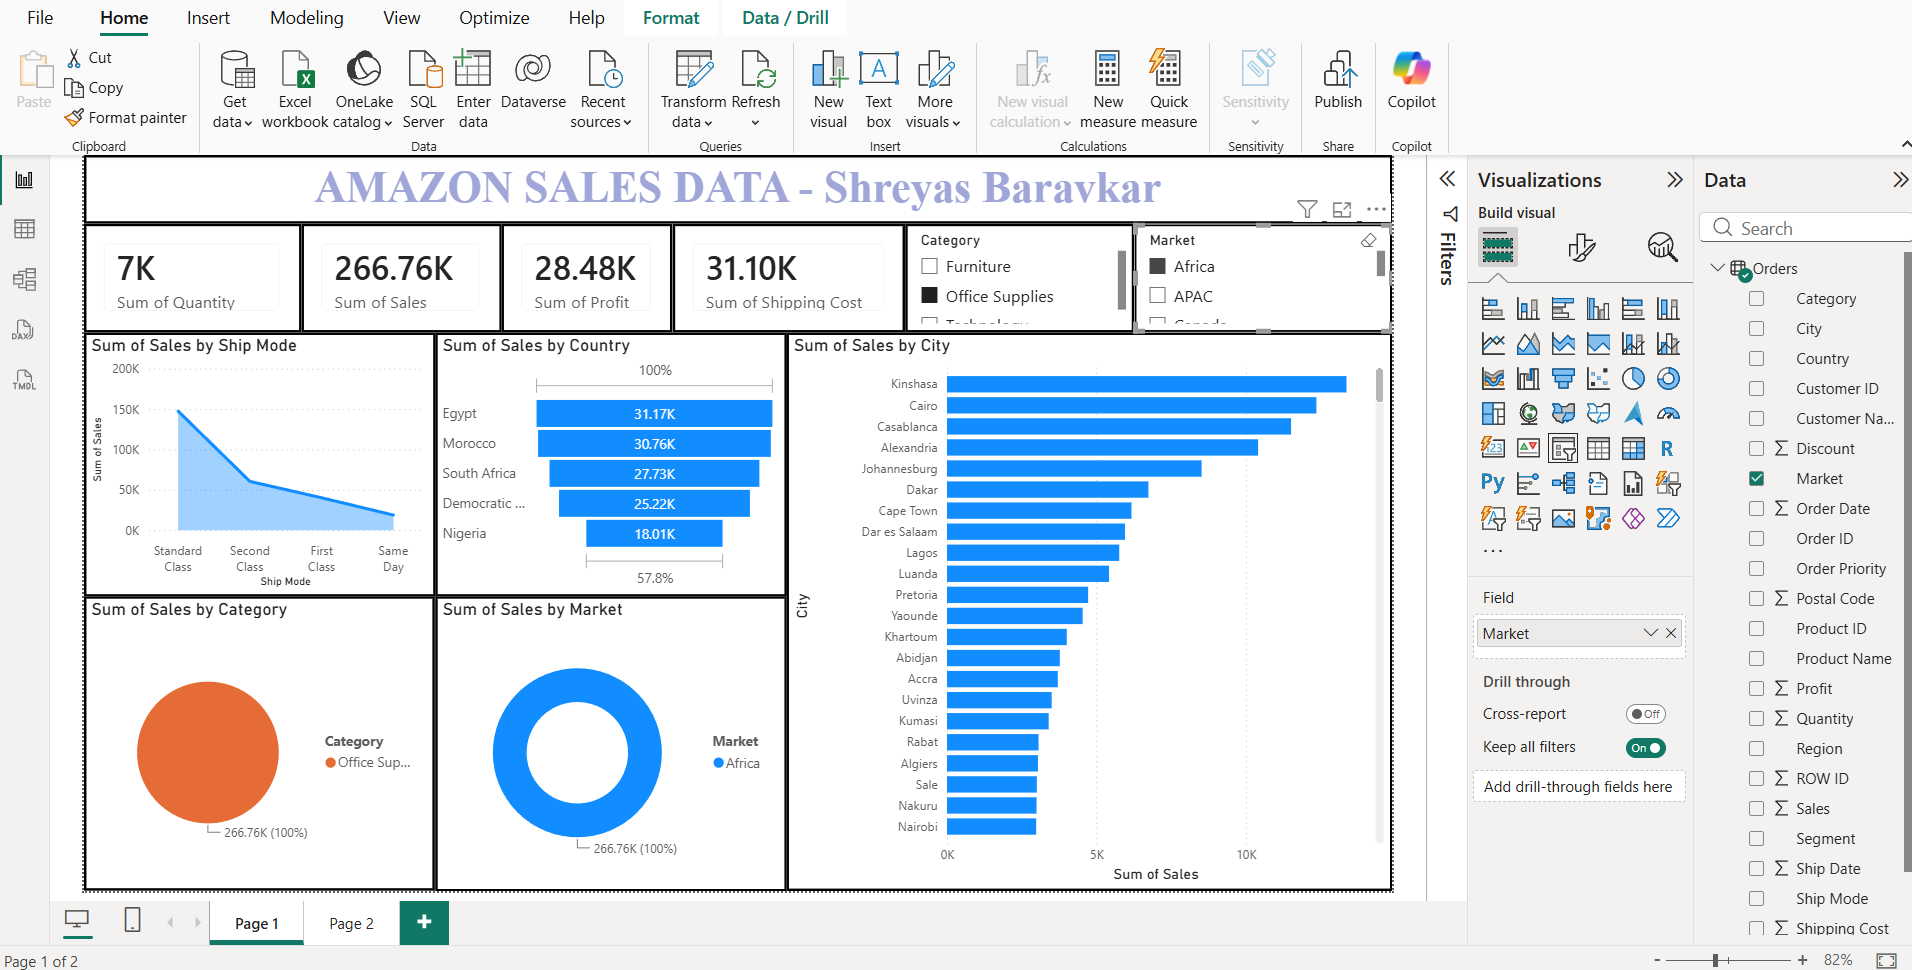

The page's visual inventory and layout, read from the dashboard file:
{"tool":"powerbi","page":{"name":"Page 1","canvas":[1280,720],"ordinal":0},"visuals":[{"type":"pieChart","fields":{"Category":["Orders.Category"],"Y":["Sum(Orders.Sales)"]},"box":[0,432.2,343.1,288.2],"z":0},{"type":"donutChart","fields":{"Category":["Orders.Market"],"Y":["Sum(Orders.Sales)"]},"box":[343.6,431.7,343.6,288.6],"z":1000},{"type":"areaChart","fields":{"Category":["Orders.Ship Mode"],"Y":["Sum(Orders.Sales)"]},"box":[0,173.6,343.6,258],"z":2000},{"type":"clusteredBarChart","fields":{"Category":["Orders.City"],"Y":["Sum(Orders.Sales)"]},"box":[687.2,173.6,593.1,546.6],"z":3000},{"type":"funnel","fields":{"Category":["Orders.Country"],"Y":["Sum(Orders.Sales)"]},"box":[343.6,173.6,343.6,258],"z":3001},{"type":"textbox","box":[0,0,1280.3,67.3],"z":3002},{"type":"cardVisual","fields":{"Data":["Sum(Orders.Quantity)"]},"box":[0,67.3,212.8,106.4],"z":3003},{"type":"cardVisual","fields":{"Data":["Sum(Orders.Sales)"]},"box":[212.8,67.3,195.7,106.4],"z":3004},{"type":"cardVisual","fields":{"Data":["Sum(Orders.Profit)"]},"box":[408.4,67.3,167.5,106.4],"z":3005},{"type":"cardVisual","fields":{"Data":["Sum(Orders.Shipping Cost)"]},"box":[576,67.3,227.4,106.4],"z":3006},{"type":"slicer","fields":{"Values":["Orders.Category"]},"box":[803.4,67.3,223.8,106.4],"z":3007},{"type":"slicer","fields":{"Values":["Orders.Market"]},"box":[1027.2,67.3,253.1,106.4],"z":3008}]}

Visuals, with their boxes on the page's 1280x720 design canvas (x1, y1, x2, y2). These are canvas units, not pixel positions in the 1912x970 screenshot, which may show the page scaled, cropped or inside an application window:
pieChart - Orders.Category x Sum(Orders.Sales): 0 432 343 720
donutChart - Orders.Market x Sum(Orders.Sales): 344 432 687 720
areaChart - Orders.Ship Mode x Sum(Orders.Sales): 0 174 344 432
clusteredBarChart - Orders.City x Sum(Orders.Sales): 687 174 1280 720
funnel - Orders.Country x Sum(Orders.Sales): 344 174 687 432
textbox: 0 0 1280 67
cardVisual - Sum(Orders.Quantity): 0 67 213 174
cardVisual - Sum(Orders.Sales): 213 67 408 174
cardVisual - Sum(Orders.Profit): 408 67 576 174
cardVisual - Sum(Orders.Shipping Cost): 576 67 803 174
slicer - Orders.Category: 803 67 1027 174
slicer - Orders.Market: 1027 67 1280 174
